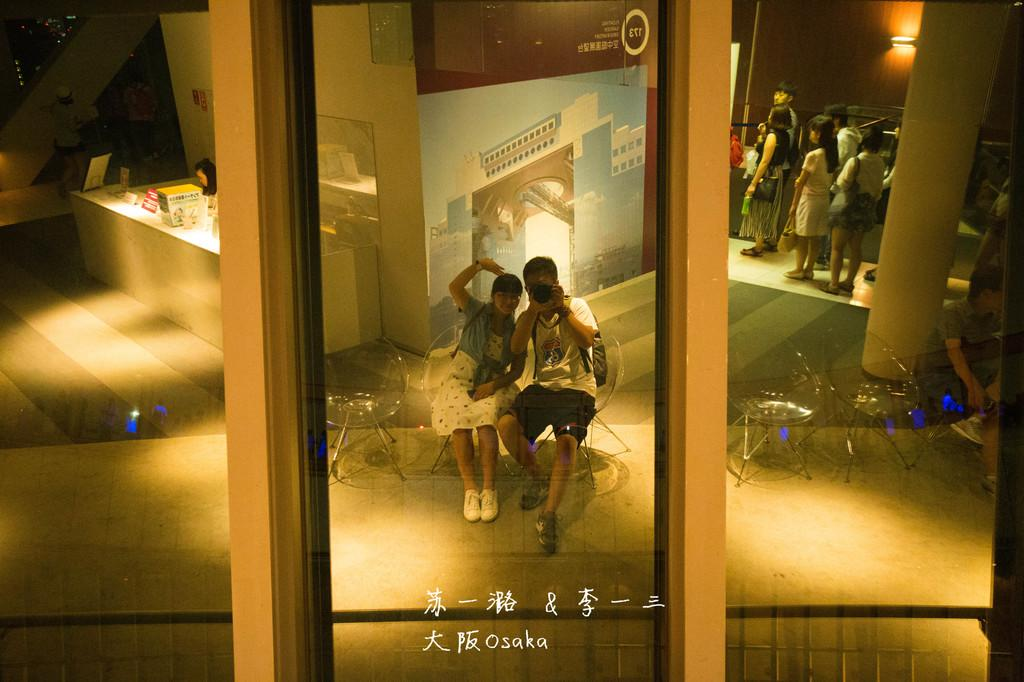face: (527, 273, 558, 303), (493, 285, 519, 314)
specialarea: (537, 282, 547, 292), (504, 294, 514, 301)
